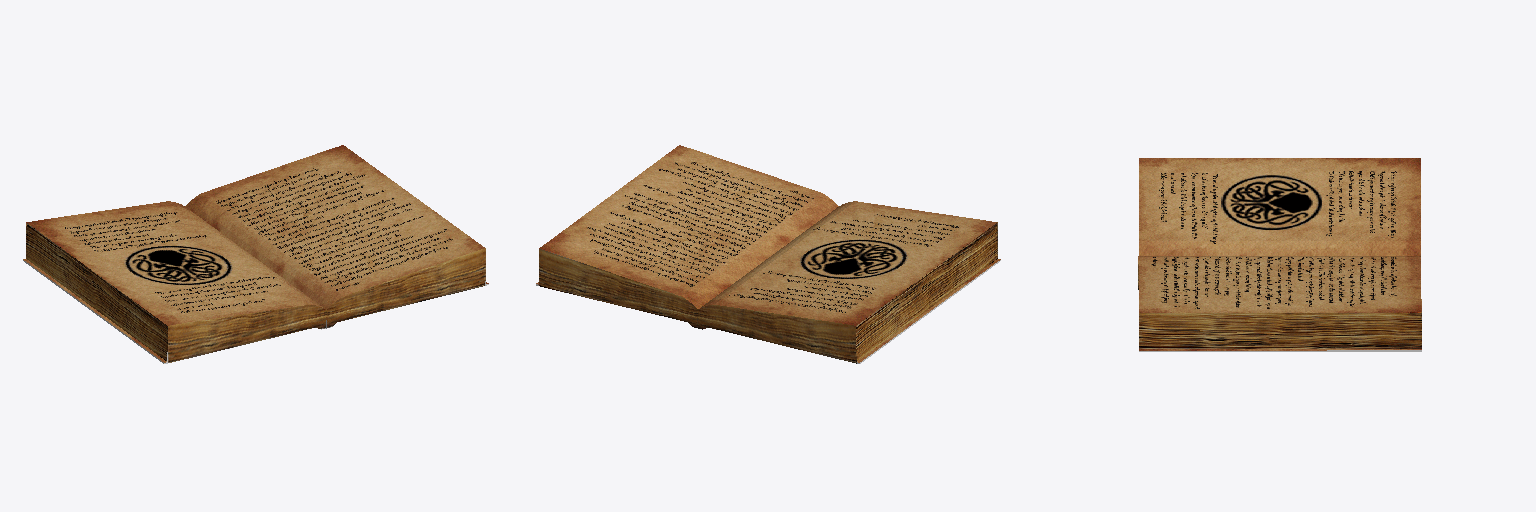
3 views of the same model, side by side, from view 1: azimuth 30°, elevation 25°; view 2: azimuth 150°, elevation 25°; view 3: azimuth 270°, elevation 25° (orthographic).
Parts seen in each view (by area): view 1: polySurface1; view 2: polySurface1; view 3: polySurface1.
Part boxes in pixels (x1,y1,x2,y2): polySurface1: (23,145,488,363); polySurface1: (536,145,1000,363); polySurface1: (1138,158,1421,351).
Bounding box in the file's own units: 2.14 × 0.2603 × 1.61.
Materials: 1 (1 with a texture image).